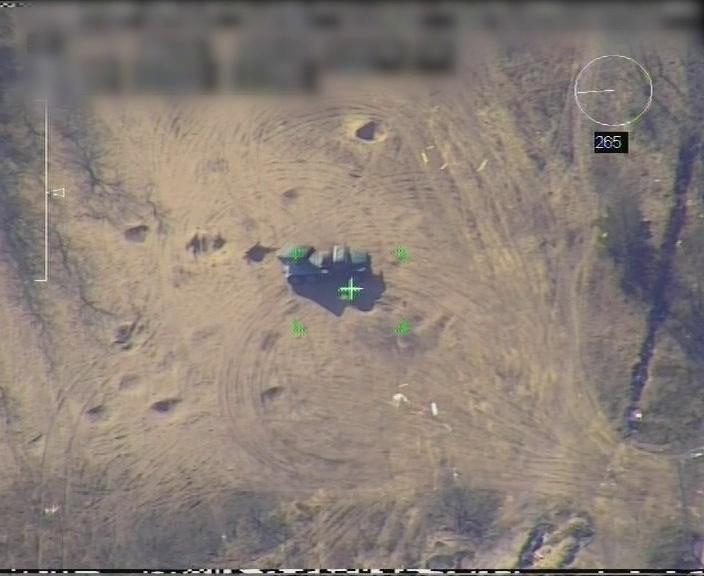rszo: (280, 244, 371, 284)
